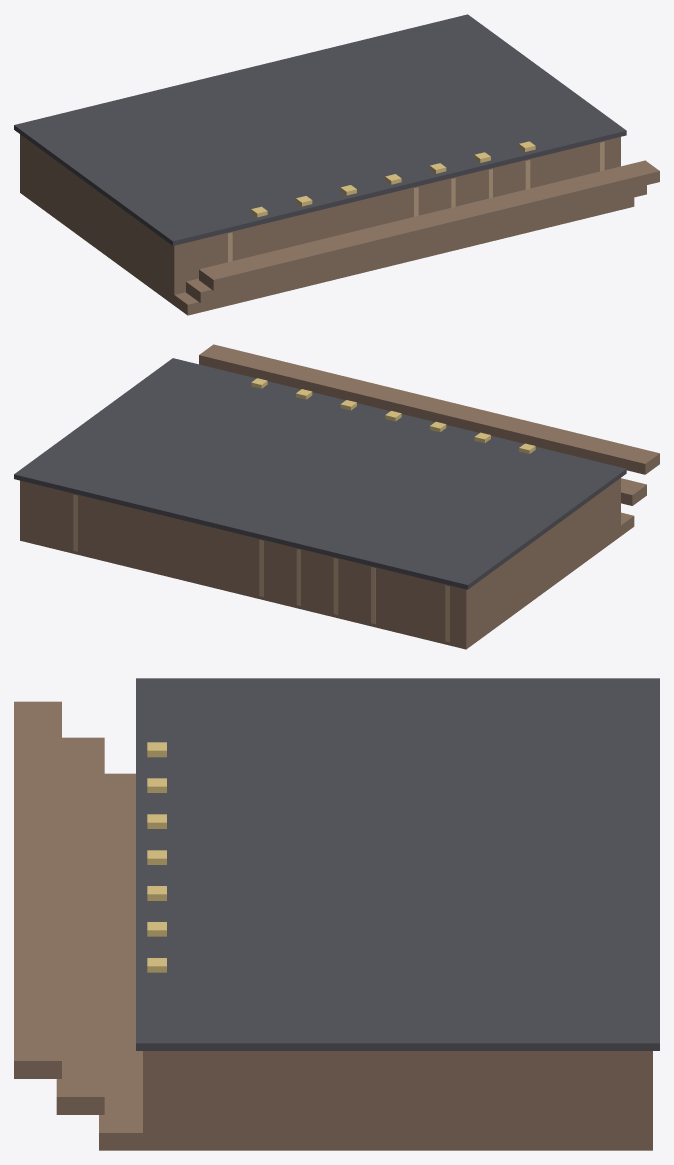
The model's file is casino-floor-and-back-rooms-stage-02555ceb__27051.glb.
3 renders of one model, top to bottom at view 1: azimuth 30°, elevation 25°; view 2: azimuth 150°, elevation 25°; view 3: azimuth 270°, elevation 25°, orthographic. The views are drawn at different scales.
Visible parts, largest first — view 1: stage; view 2: stage; view 3: stage.
Boxes of the visible parts, left/top/right/bottom form: stage: left=14, top=14, right=659, bottom=315; stage: left=14, top=344, right=659, bottom=649; stage: left=14, top=678, right=659, bottom=1150.
Bounding box in the file's own units: 6.1 × 0.91 × 4.56.
